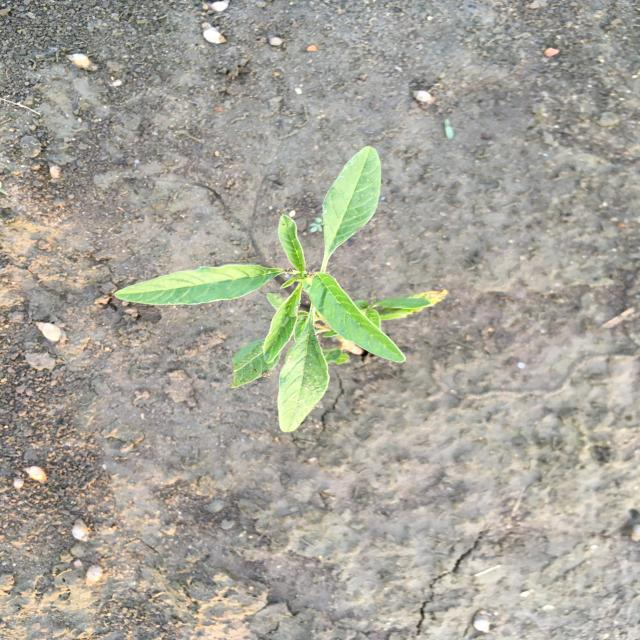Waterhemp: (112, 144, 452, 434)
